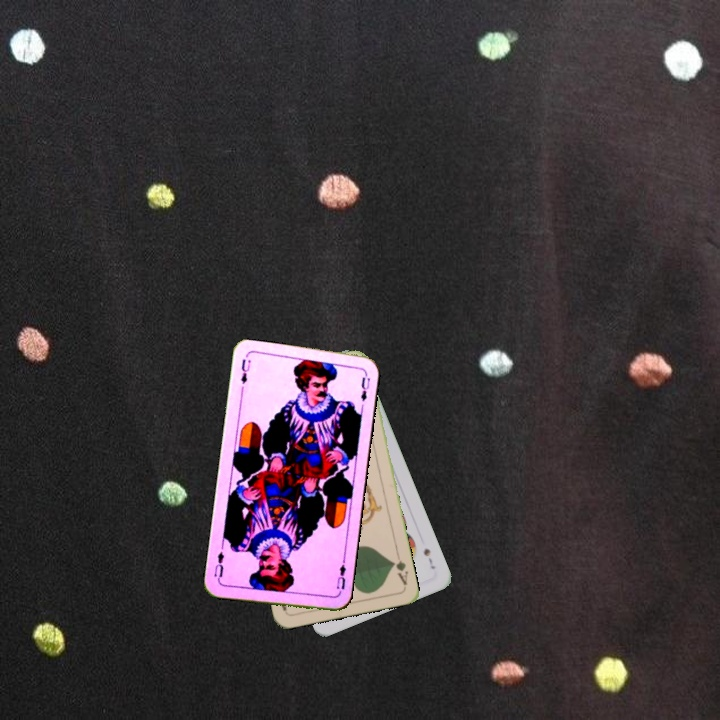EU: (332, 556, 348, 597), (237, 355, 253, 387)
GA: (388, 548, 411, 588)
S7: (420, 544, 438, 572)
